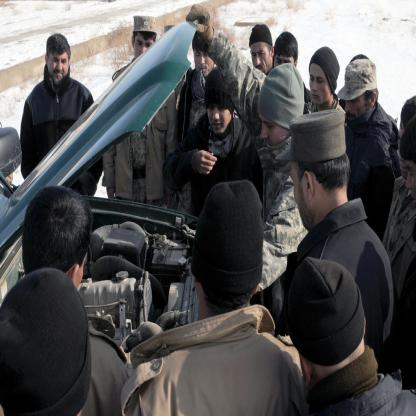Car: (1, 27, 203, 374)
